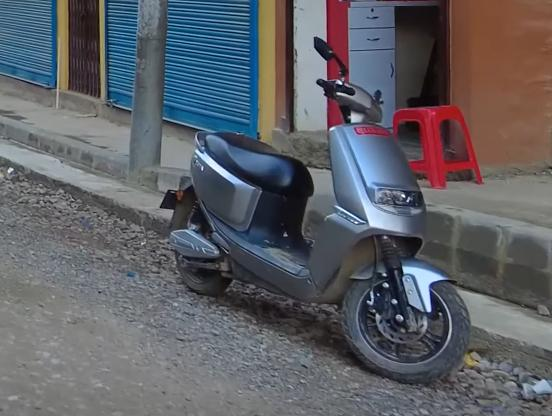scooter: (157, 35, 476, 383)
